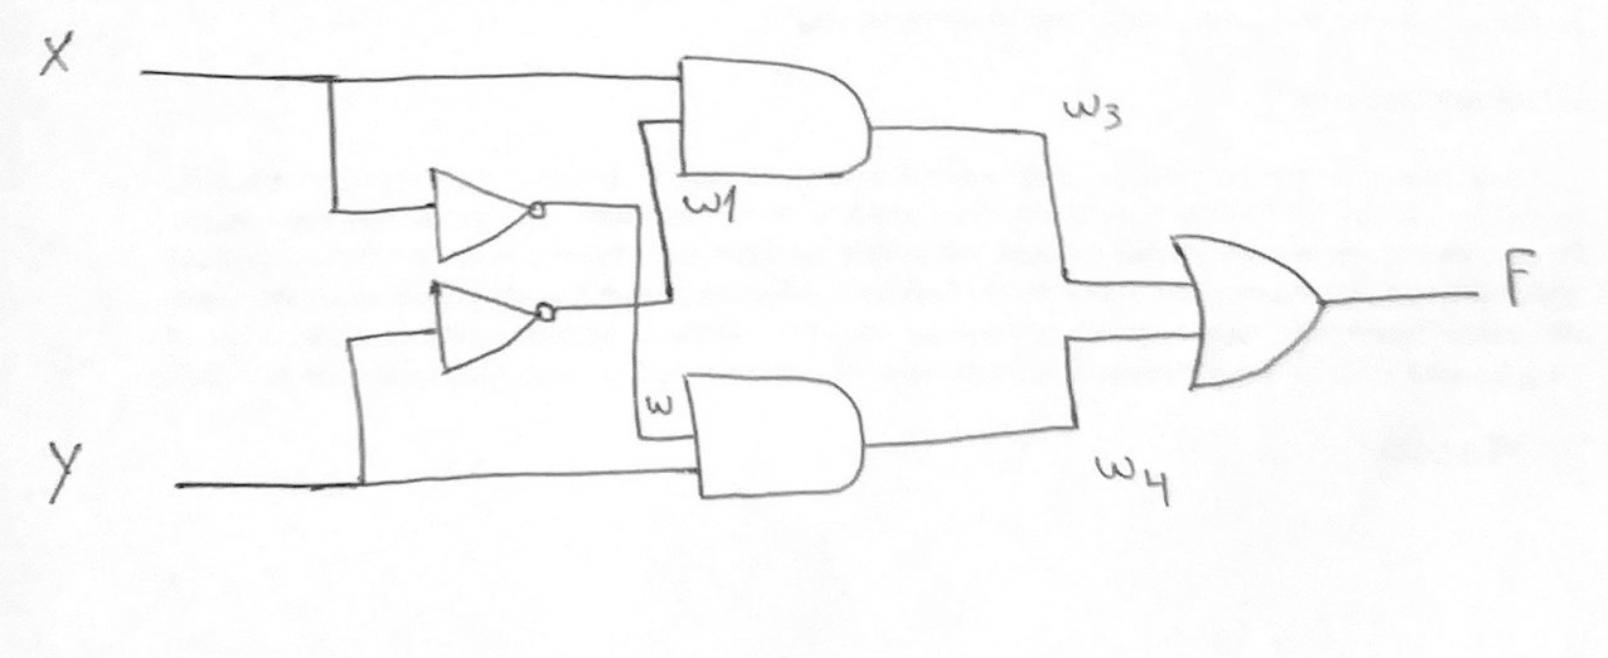AND: (676, 357, 903, 511), (667, 35, 886, 192)
NOT: (413, 280, 578, 380), (413, 160, 555, 263)
OR: (1135, 220, 1352, 412)
